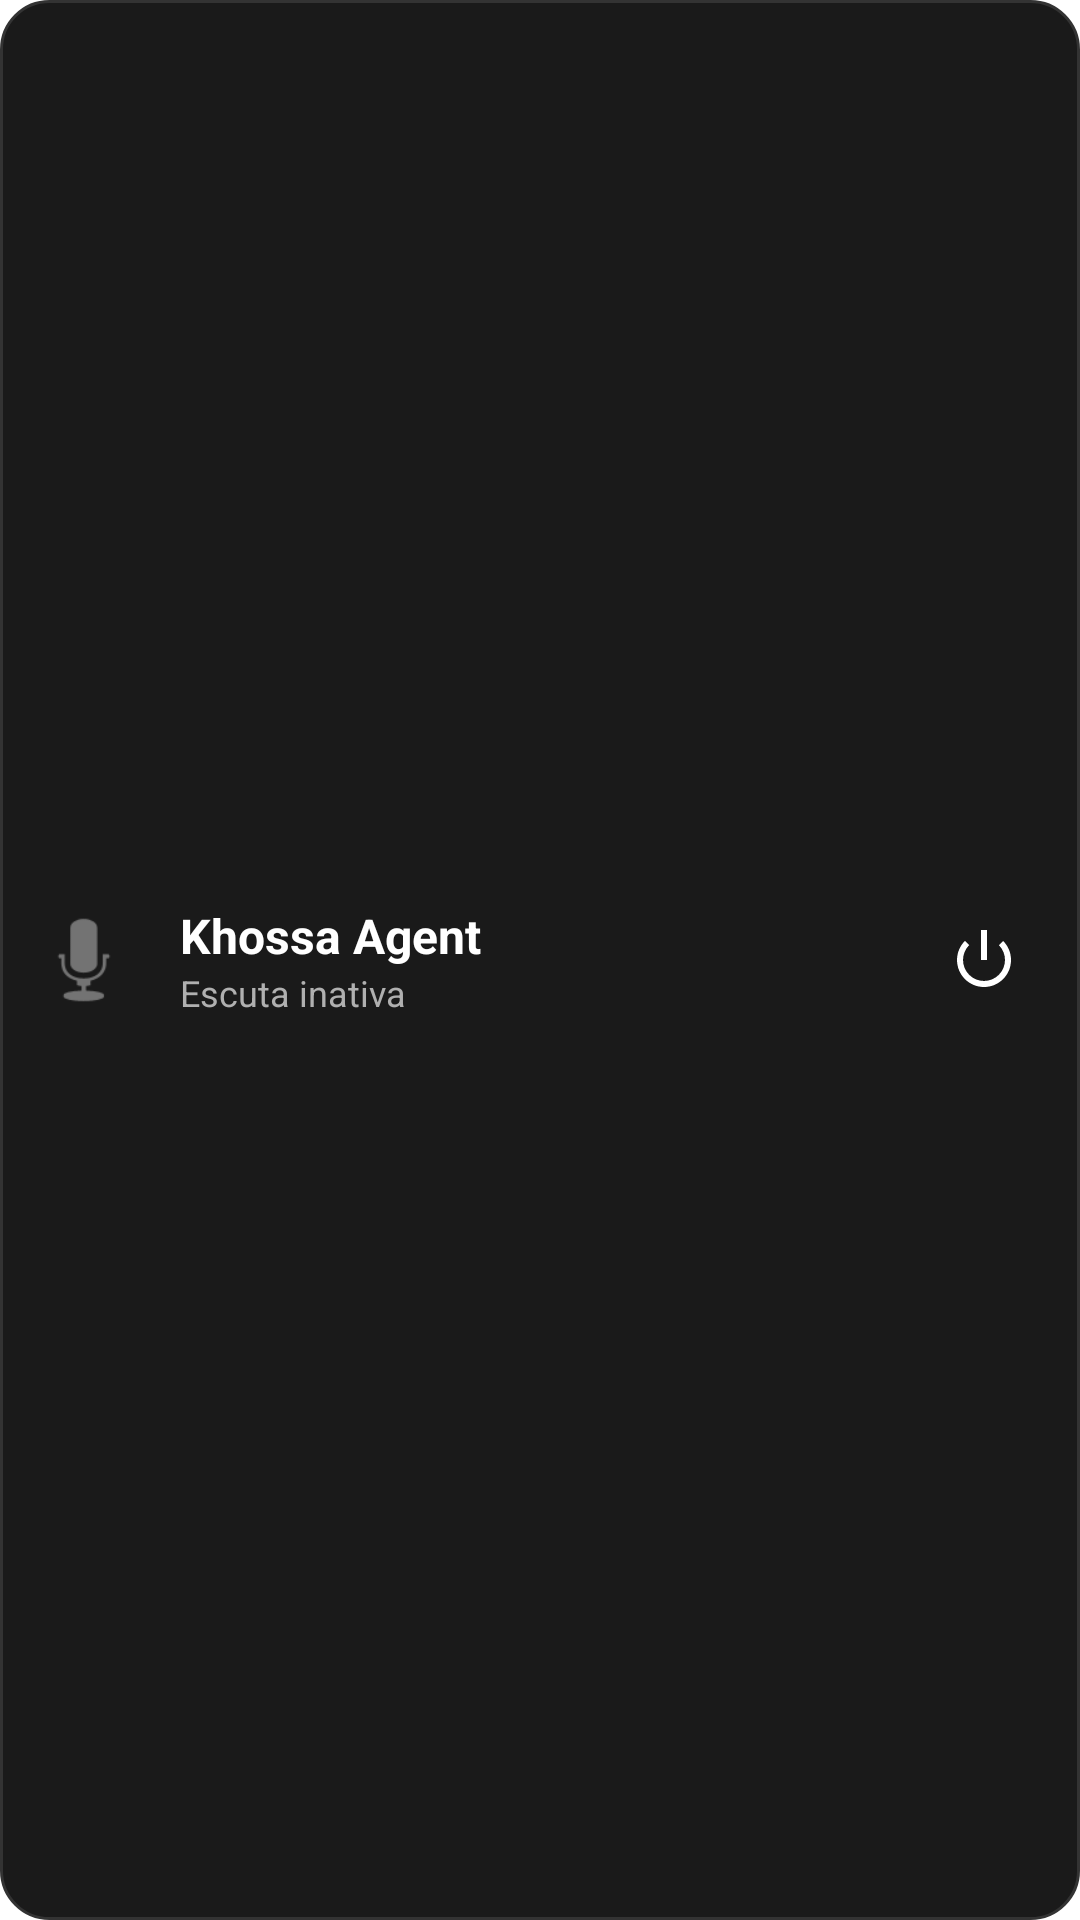

Screen size 1080px×1920px. Icon name, then its box in pixels as (x1, y1, x2, y2):
Alternar escuta: (957, 930, 1011, 987)
